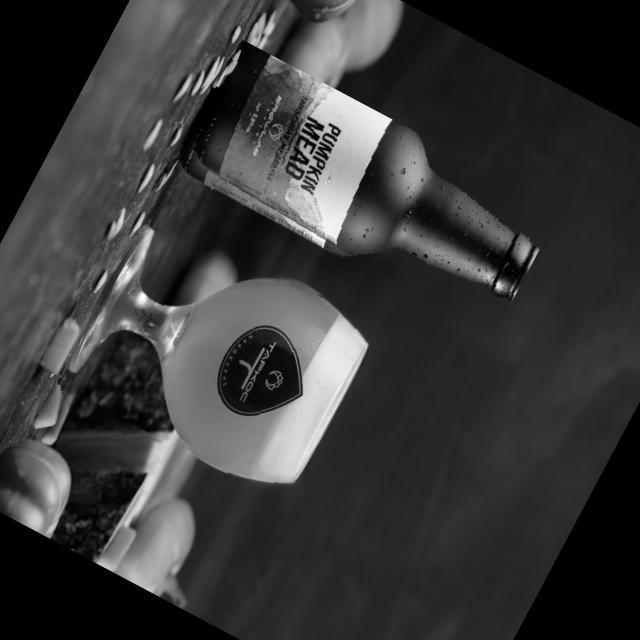Glass: (169, 38, 559, 338), (54, 202, 382, 506)
